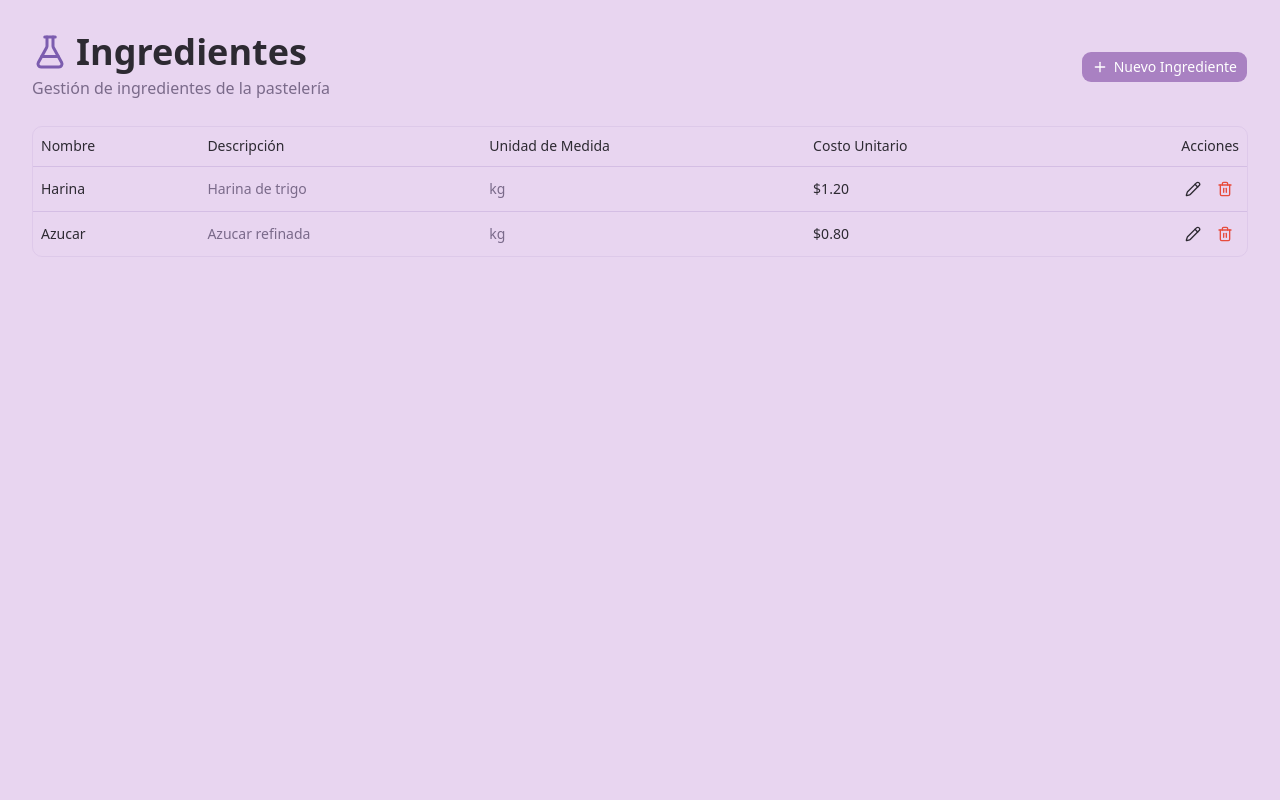
Test: Ingredientes Component › should open and close the edit ingrediente modal
Expected: the text "Harina" is shown, x1=33 y1=167 x2=199 y2=212
Click the button named "Editar" in the row of "Harina de trigo" at {"x": 1193, "y": 189}, box x1=1179 y1=175 x2=1207 y2=203
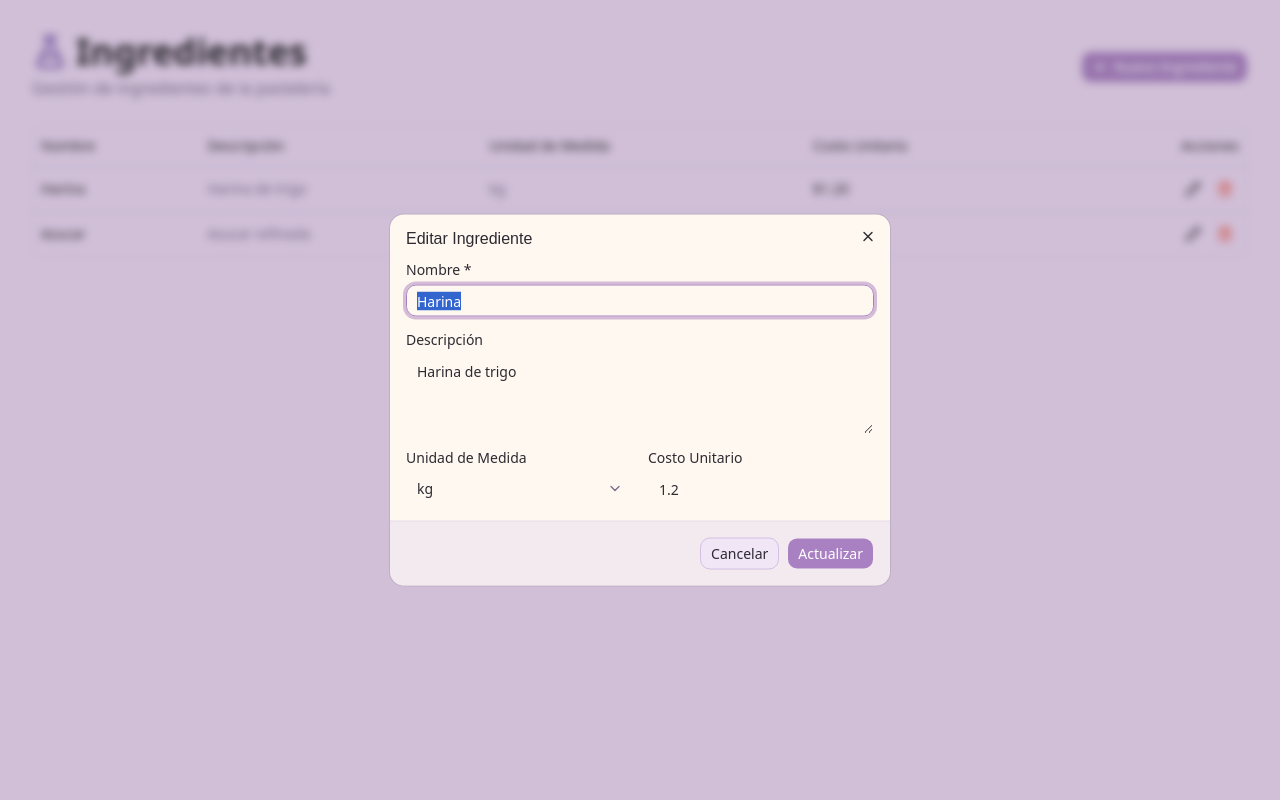
Now the heading "Editar Ingrediente" is shown, box x1=406 y1=230 x2=532 y2=246
Now the field showing "Harina" is shown, box x1=406 y1=284 x2=874 y2=316
Click the button "Cancelar" at {"x": 740, "y": 554}, box x1=700 y1=538 x2=779 y2=570
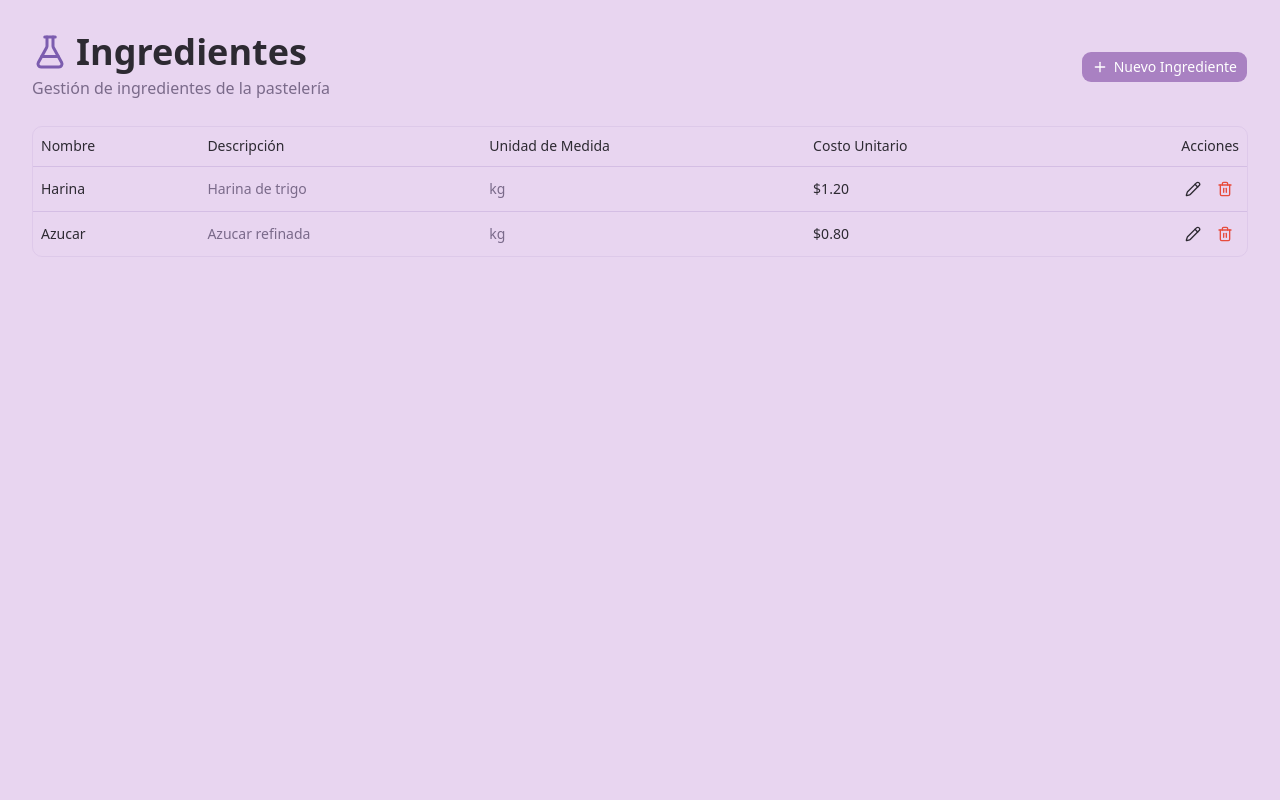
Now the heading "Editar Ingrediente" is gone
